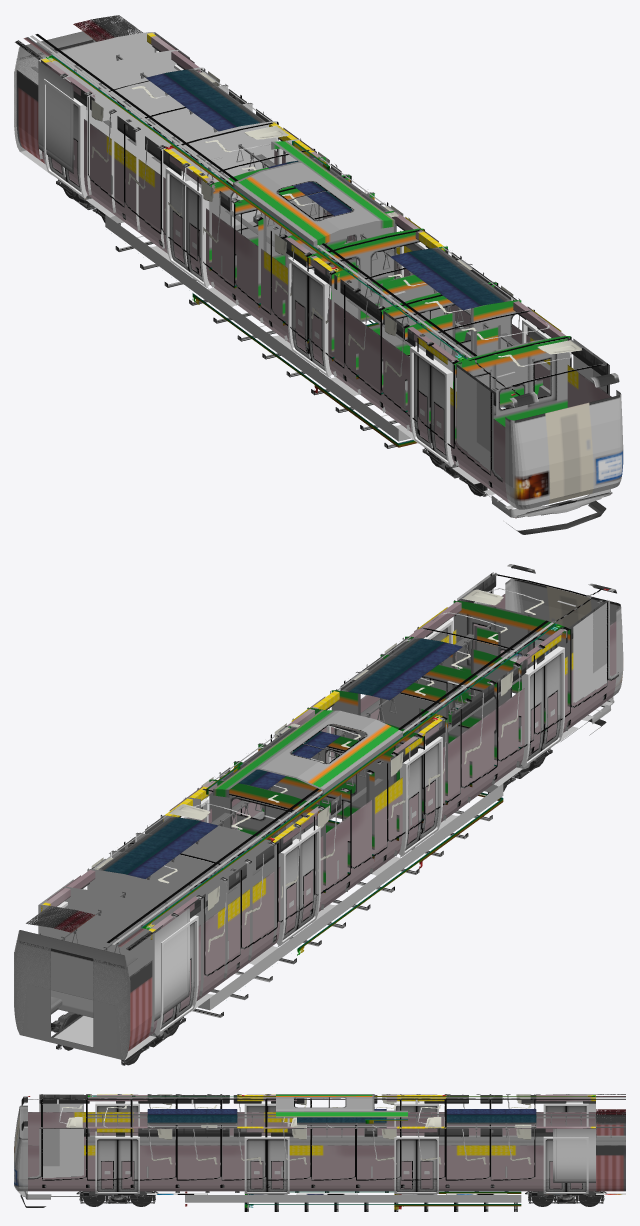
The model's file is m-3_19_i_cab_n.obj.
3 renders of one model, top to bottom at view 1: azimuth 30°, elevation 25°; view 2: azimuth 150°, elevation 25°; view 3: azimuth 270°, elevation 25°, orthographic. The views are drawn at different scales.
Visible parts, largest first — view 1: BD4-24m_body_interior_(type_I), BD2-24m_body_interior_(type_I), BD1-24m_body_exterior_(type_I), HP2-type_m-3A-front, MC2-top_machine, HP1-type_m-3A-front, MC1-bottom_machine, BD3-24m_body_interior_(type_I), WD2RF, WD2RB, HP6-type_m-3E-back, HP5-type_m-3E-back (+4 smaller); view 2: BD4-24m_body_interior_(type_I), BD1-24m_body_exterior_(type_I), BD2-24m_body_interior_(type_I), HP2-type_m-3A-front, HP6-type_m-3E-back, MC2-top_machine, HP2-type_m-3E-front, MC1-bottom_machine, BD3-24m_body_interior_(type_I), HP5-type_m-3E-back, HP1-type_m-3A-front, WD2RF (+5 smaller); view 3: BD2-24m_body_interior_(type_I), BD1-24m_body_exterior_(type_I), BD3-24m_body_interior_(type_I), HP2-type_m-3A-front, MC1-bottom_machine, HP1-type_m-3A-front, W21LF, WD2LB, MC2-top_machine, HP6-type_m-3E-back, bogie, BD4-24m_body_interior_(type_I) (+5 smaller).
Part boxes in pixels (<box>): BD4-24m_body_interior_(type_I): <box>39,32,570,466</box>; BD2-24m_body_interior_(type_I): <box>41,46,550,467</box>; BD1-24m_body_exterior_(type_I): <box>38,32,551,473</box>; HP2-type_m-3A-front: <box>456,337,623,509</box>; MC2-top_machine: <box>233,141,395,246</box>; HP1-type_m-3A-front: <box>453,336,612,534</box>; MC1-bottom_machine: <box>105,214,416,448</box>; BD3-24m_body_interior_(type_I): <box>41,33,567,408</box>; WD2RF: <box>65,104,452,467</box>; WD2RB: <box>48,157,432,448</box>; HP6-type_m-3E-back: <box>14,34,118,163</box>; HP5-type_m-3E-back: <box>14,15,143,169</box>; BD4-24m_body_interior_(type_I): <box>38,601,570,1032</box>; BD1-24m_body_exterior_(type_I): <box>39,619,570,1042</box>; BD2-24m_body_interior_(type_I): <box>76,612,567,1036</box>; HP2-type_m-3A-front: <box>457,564,623,732</box>; HP6-type_m-3E-back: <box>14,929,152,1060</box>; MC2-top_machine: <box>206,710,402,797</box>; HP2-type_m-3E-front: <box>14,930,130,1033</box>; MC1-bottom_machine: <box>192,783,503,1017</box>; BD3-24m_body_interior_(type_I): <box>41,601,565,939</box>; HP5-type_m-3E-back: <box>14,906,153,1060</box>; HP1-type_m-3A-front: <box>454,572,618,741</box>; WD2RF: <box>175,653,561,1018</box>; BD2-24m_body_interior_(type_I): <box>87,1095,595,1191</box>; BD1-24m_body_exterior_(type_I): <box>87,1094,595,1194</box>; BD3-24m_body_interior_(type_I): <box>87,1095,595,1145</box>; HP2-type_m-3A-front: <box>14,1095,87,1191</box>; MC1-bottom_machine: <box>175,1191,521,1211</box>; HP1-type_m-3A-front: <box>17,1094,87,1207</box>; W21LF: <box>97,1139,566,1194</box>; WD2LB: <box>117,1139,586,1194</box>; MC2-top_machine: <box>276,1094,407,1123</box>; HP6-type_m-3E-back: <box>596,1112,625,1191</box>; bogie: <box>76,1191,606,1206</box>; BD4-24m_body_interior_(type_I): <box>87,1113,596,1137</box>.
Bounding box in the file's own units: 2.8 × 3.47 × 20.47.
4 materials, 3 textured.
